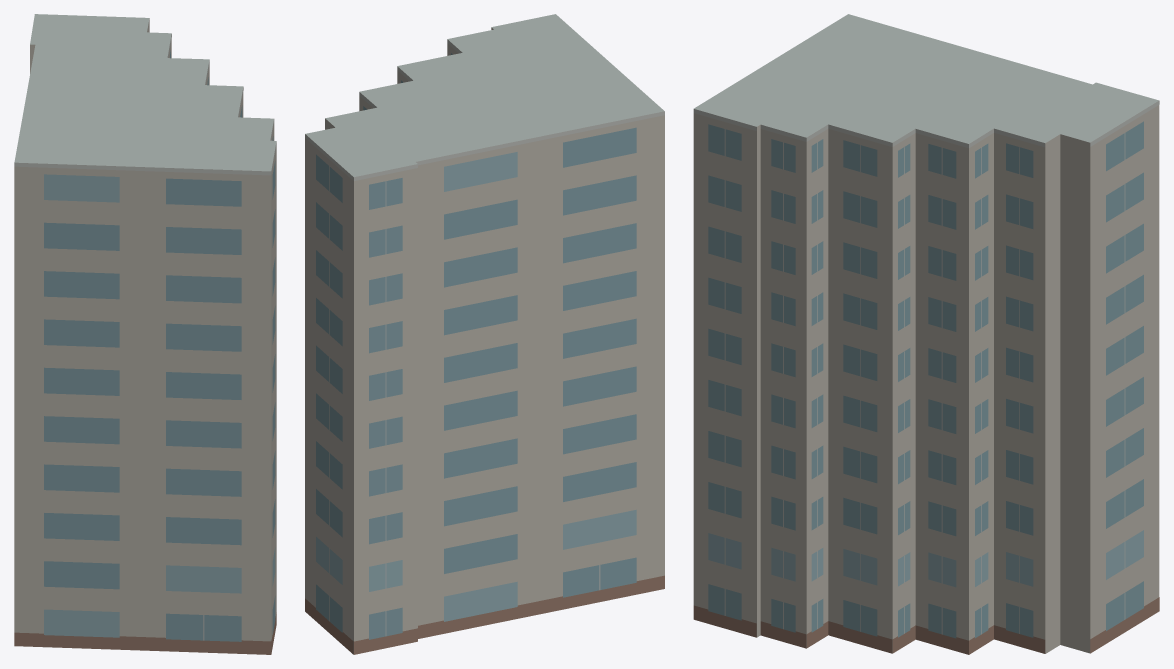
File: survey-upis-32966672.glb
3 views of the same model, side by side, from view 1: azimuth 30°, elevation 25°; view 2: azimuth 150°, elevation 25°; view 3: azimuth 270°, elevation 25° (orthographic). The views are drawn at different scales.
Visible parts, largest first — view 1: survey-upis-32966672.tmp; view 2: survey-upis-32966672.tmp; view 3: survey-upis-32966672.tmp.
Part boxes in pixels (left/top/right/bottom): survey-upis-32966672.tmp: left=14, top=14, right=276, bottom=654; survey-upis-32966672.tmp: left=305, top=14, right=664, bottom=654; survey-upis-32966672.tmp: left=693, top=14, right=1159, bottom=654.
Bounding box in the file's own units: 16.04 × 29.35 × 24.27.
